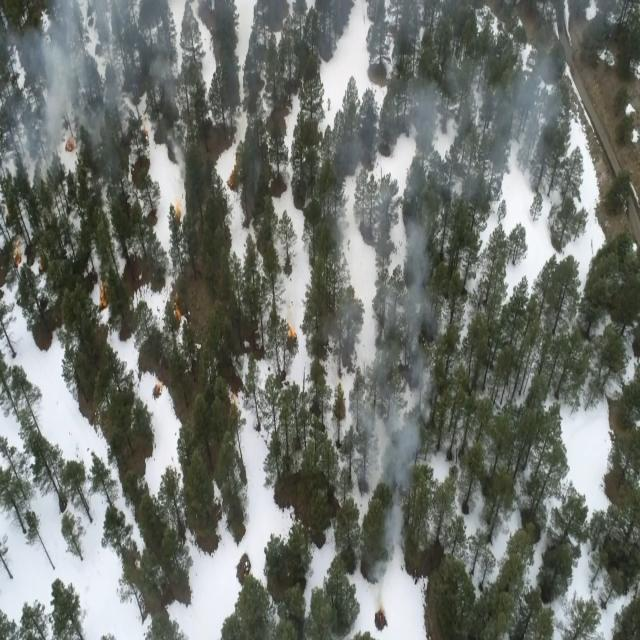Fire: (167, 288, 186, 318), (169, 191, 186, 221), (10, 243, 28, 268), (286, 316, 300, 348), (96, 282, 111, 306)
